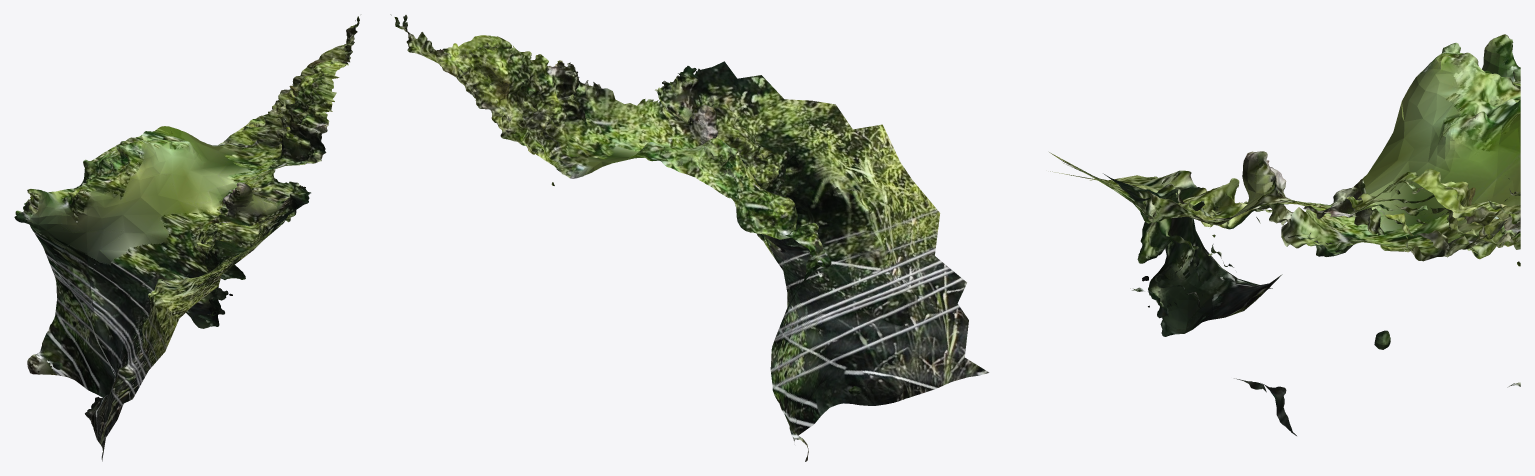
3 renders of one model, left to right at view 1: azimuth 30°, elevation 25°; view 2: azimuth 150°, elevation 25°; view 3: azimuth 270°, elevation 25°, orthographic. The views are drawn at different scales.
Size of the model in its own units: 5.66 by 4.06 by 3.34.
1 material, 1 textured.
